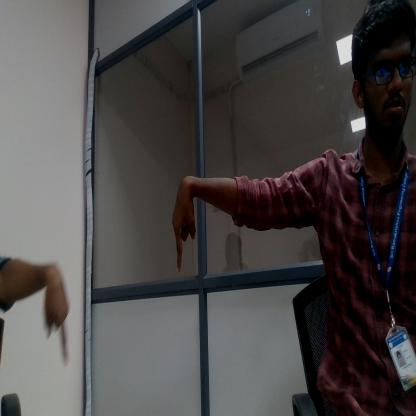Down: (162, 167, 201, 286)
